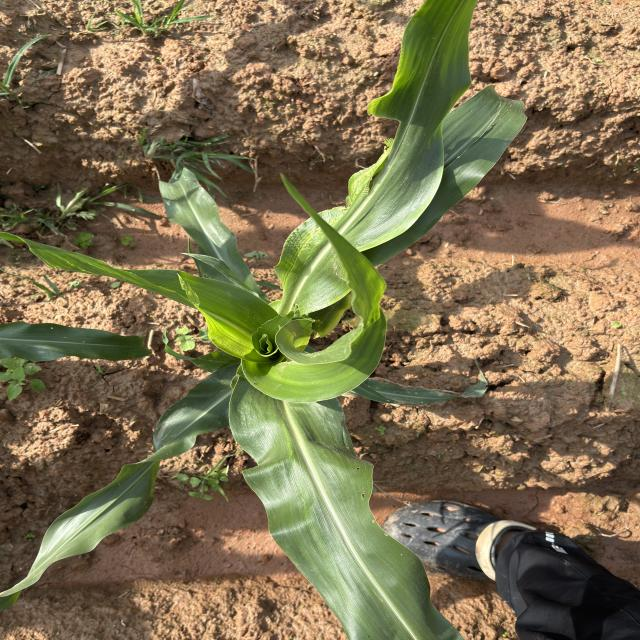maize: (150, 241, 400, 640), (348, 12, 529, 280), (48, 490, 162, 561), (13, 318, 141, 358)
weed: (0, 4, 179, 88), (0, 185, 121, 254), (136, 132, 240, 176), (0, 361, 76, 406), (176, 463, 232, 499)
